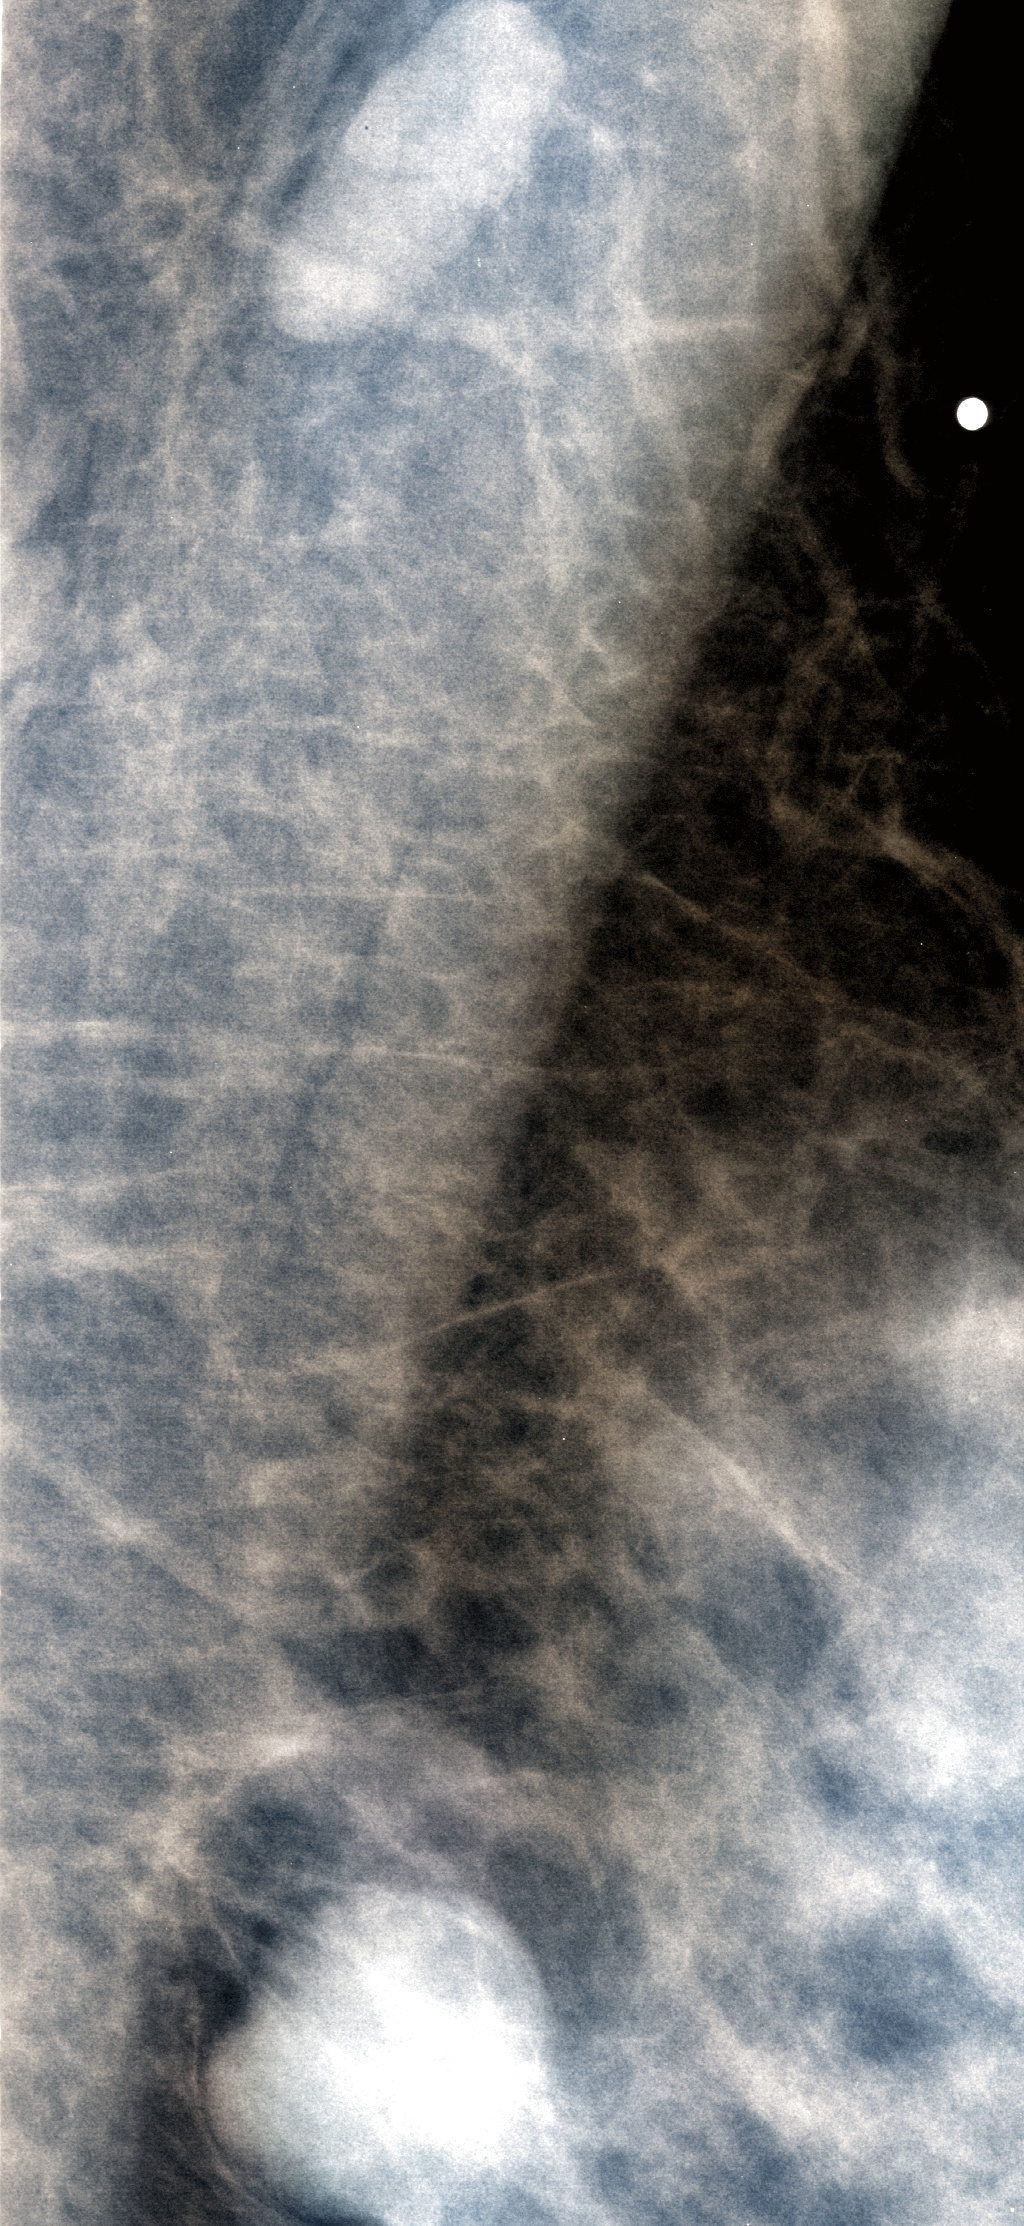tumor: (205, 1873, 570, 2226), (264, 0, 562, 339)
